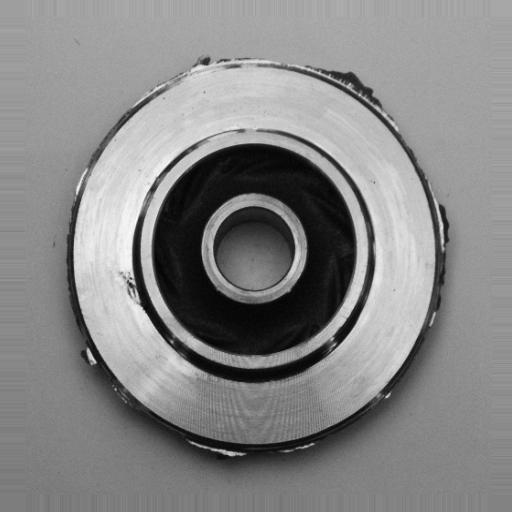casting_with_burr: (62, 52, 454, 463)
crack: (117, 261, 151, 311)
scratch: (193, 115, 274, 151), (317, 312, 350, 367)
